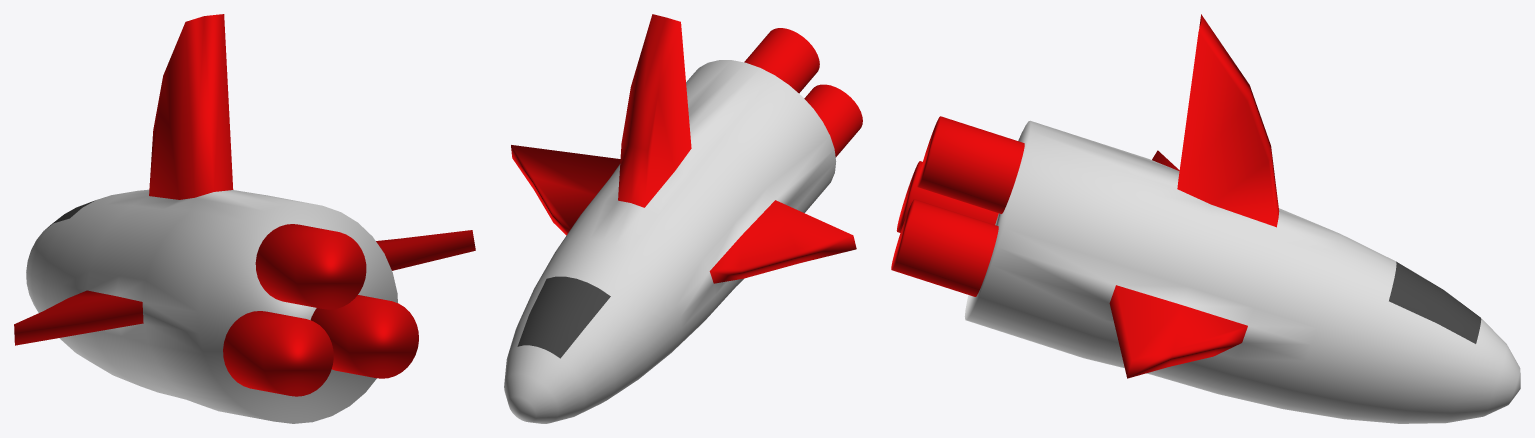
The model's file is Smoothie Ship 1.fbx.
The picture shows the model from 3 angles, left to right: view 1: azimuth 30°, elevation 25°; view 2: azimuth 150°, elevation 25°; view 3: azimuth 270°, elevation 25°; orthographic projection. The views are drawn at different scales.
Visible parts, largest first — view 1: Sphere; view 2: Sphere; view 3: Sphere.
Part boxes in pixels (x1,y1,x2,y2): Sphere: [14, 14, 475, 423]; Sphere: [504, 14, 862, 423]; Sphere: [891, 14, 1520, 423].
Bounding box in the file's own units: 490 × 432 × 630.
